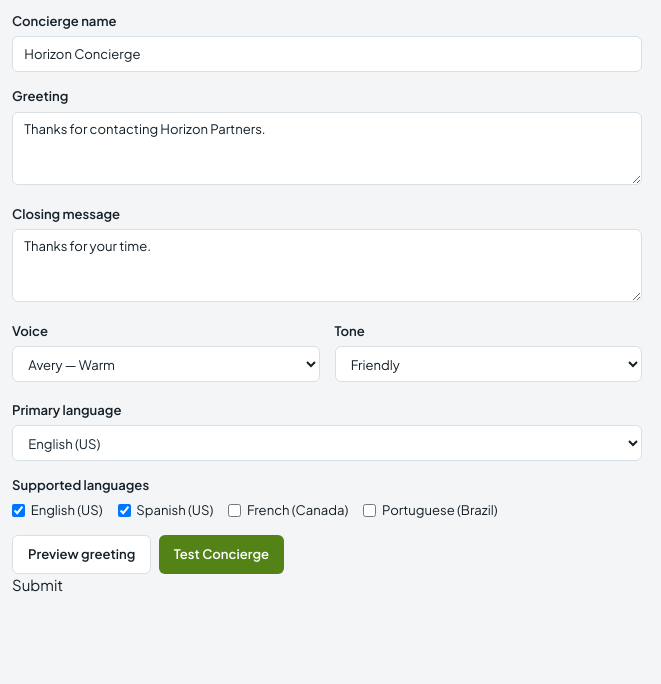
Test: IdentityFields › shows a custom tone description only once Custom is selected
Expected: the field labelled "Custom tone description" is not shown
Select "Custom" in the dropdown labelled "Tone" at point(488, 364), box [334, 346, 642, 382]
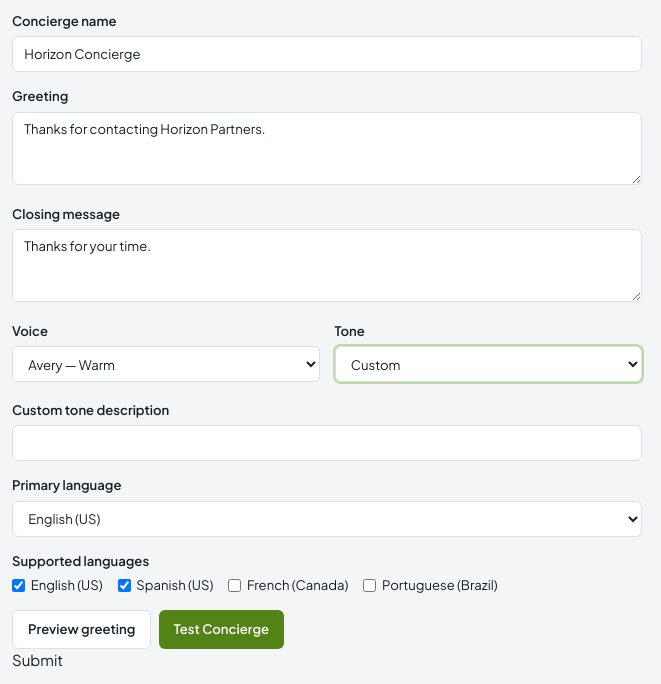
Result: the field labelled "Custom tone description" is shown at [12, 425, 642, 461]
